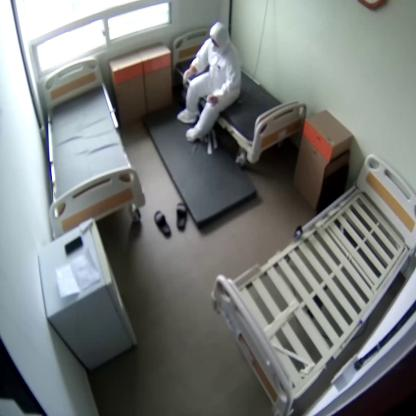Person: (178, 23, 242, 139)
